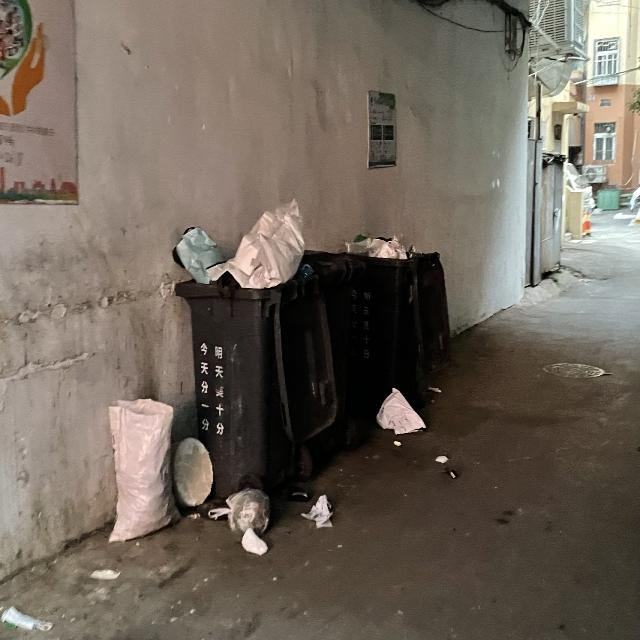garbage: (90, 396, 332, 581), (375, 386, 455, 477)
overflow: (171, 196, 338, 493), (343, 230, 449, 406)
